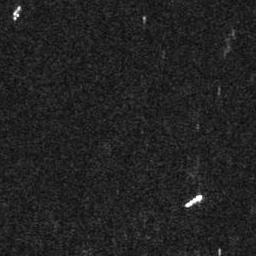ship: (184, 194, 203, 207)
